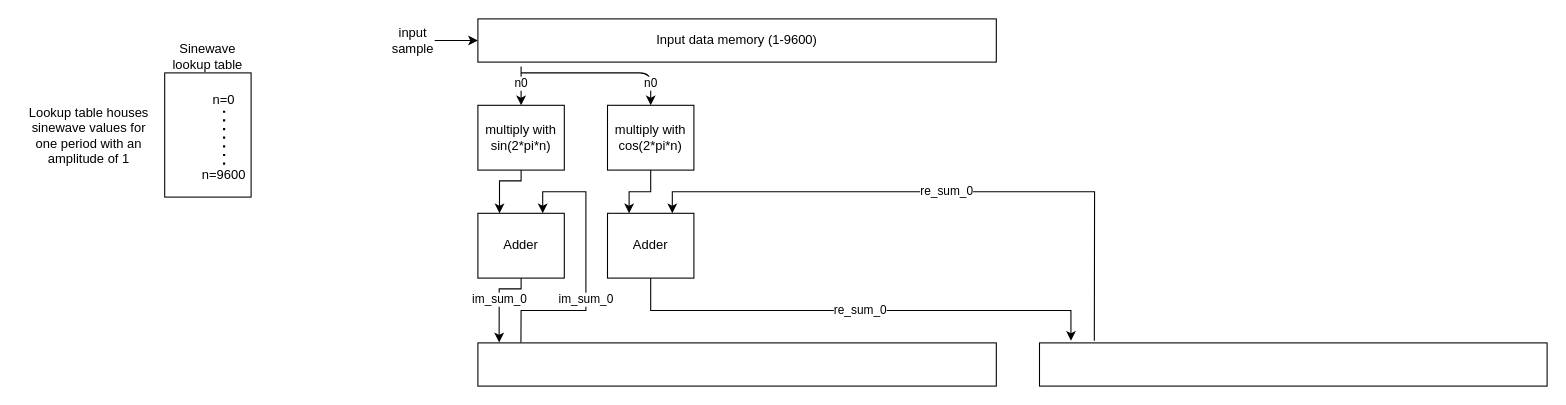
This 1566x405 diagram has some shape labels left out. The shapes that lost their labels are listed below. From the top down, each one's box as (x1, y1, x2, y2) in pixels, then its label:
(477, 342, 996, 386): Summation of imag f0
(1038, 342, 1547, 386): Summation of real f0
